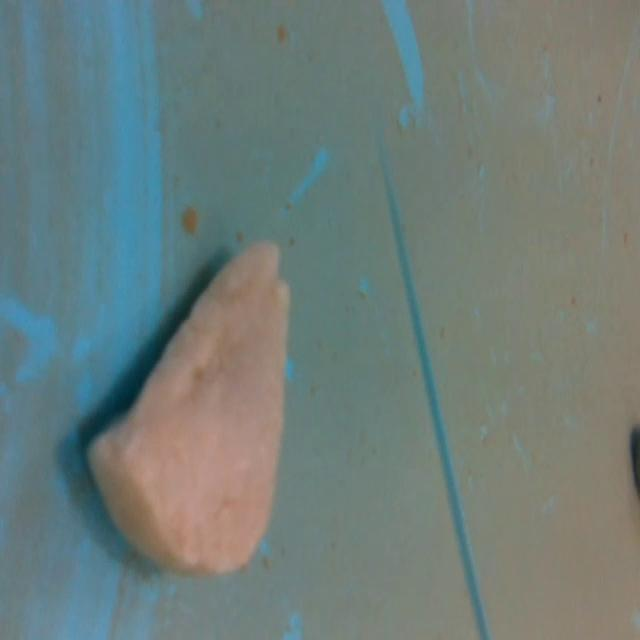rock: (77, 231, 298, 585)
